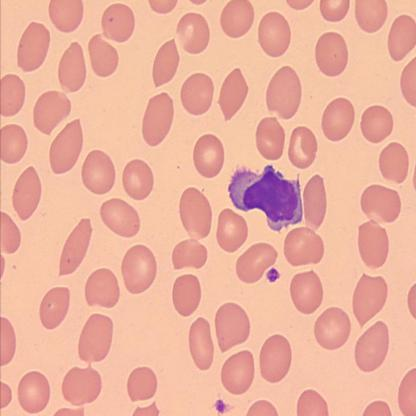Atypical lymphocyte: (226, 160, 306, 233)
